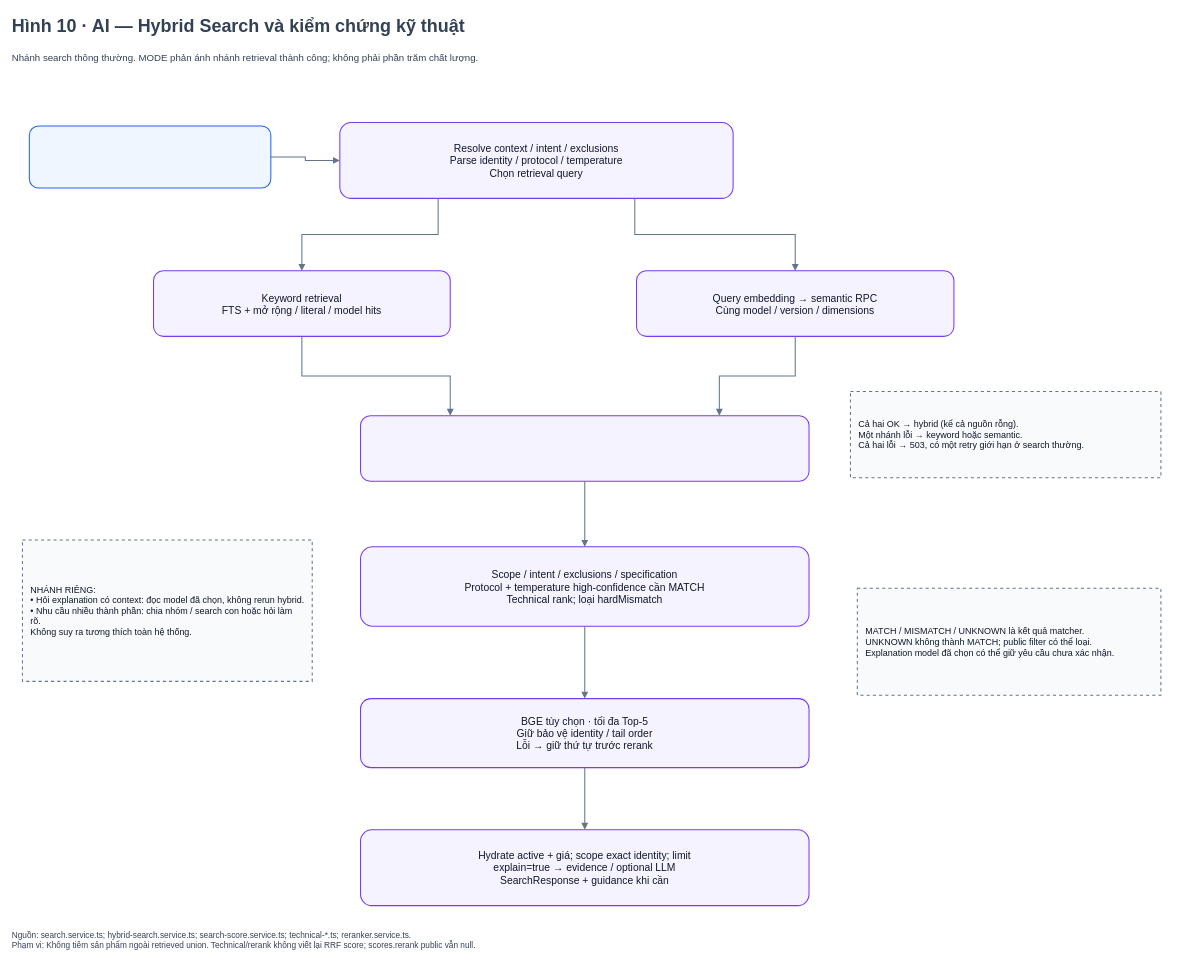
The diagram is 1190 pixels wide and 980 high, and some of its shapes have lost their labels. The shapes that lost their labels are listed below. From the top down, each one's centre as x and y in pixels, then its label:
pixel 149 156: POST /search Validate query / limit / context
pixel 584 448: Hợp candidate bằng RRF · K=60 Hai nguồn song song / Promise.allSettled
